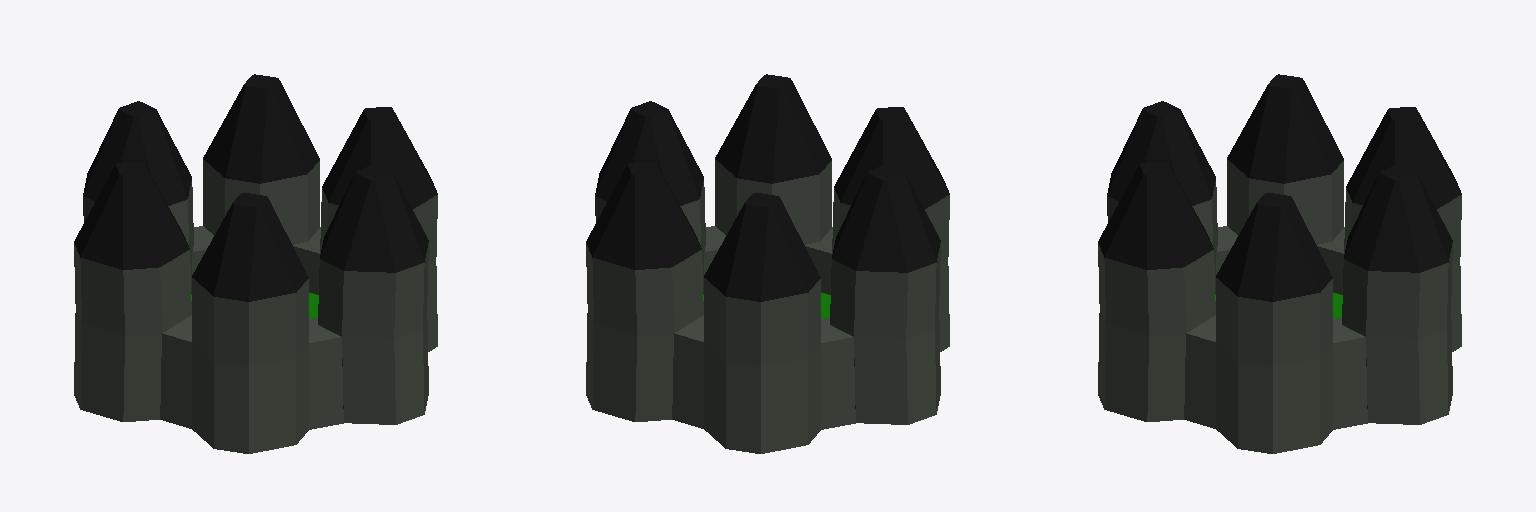
Rendered from army.obj.
3 renders of one model, left to right at view 1: azimuth 30°, elevation 25°; view 2: azimuth 150°, elevation 25°; view 3: azimuth 270°, elevation 25°, orthographic.
Visible parts, largest first — view 1: Cylinder.001; view 2: Cylinder.001; view 3: Cylinder.001.
Boxes of the visible parts, x1=… form: Cylinder.001: x1=74, y1=74, x2=437, y2=453; Cylinder.001: x1=586, y1=74, x2=949, y2=453; Cylinder.001: x1=1098, y1=74, x2=1461, y2=453.
Size of the model in its own units: 1.37 by 0.8742 by 1.25.